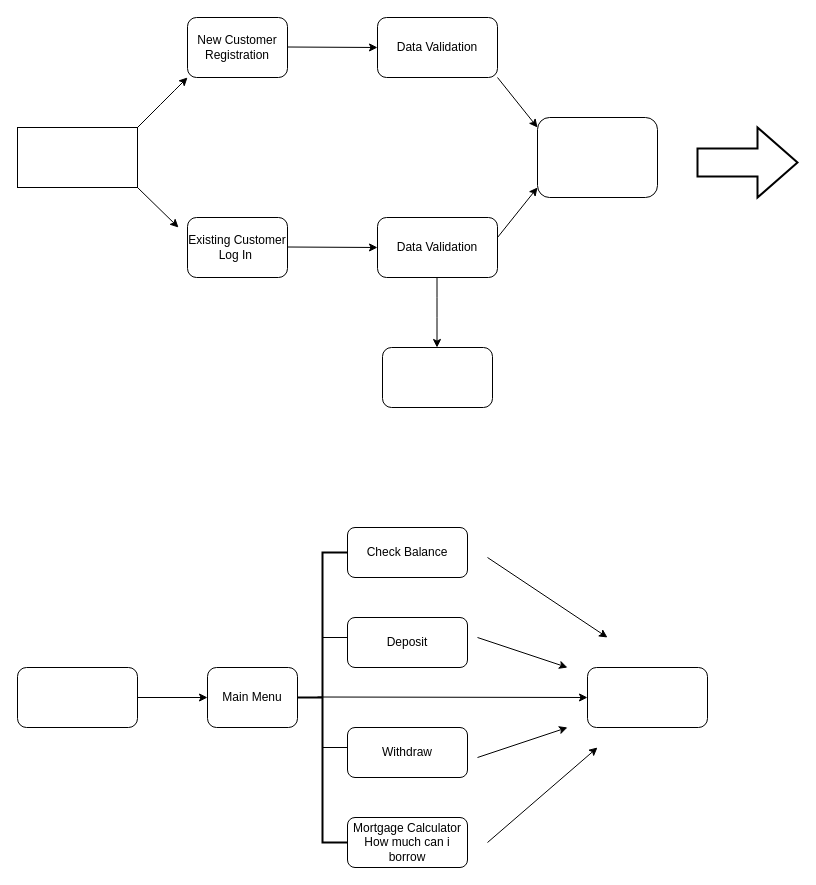
The diagram is 816 pixels wide and 885 high, and some of its shapes have lost their labels. The box of each missing label's shape, as (x1, y1, x2, y2) in pixels:
Authentication Details Checked against google sheet customer data: (536, 116, 658, 198)
Customer Successfully Logged in: (16, 666, 138, 728)
Log out: (586, 666, 708, 728)
New Customer details added to google sheets: (382, 346, 492, 408)
Welcome To Retro Bank Message: (16, 126, 138, 188)
